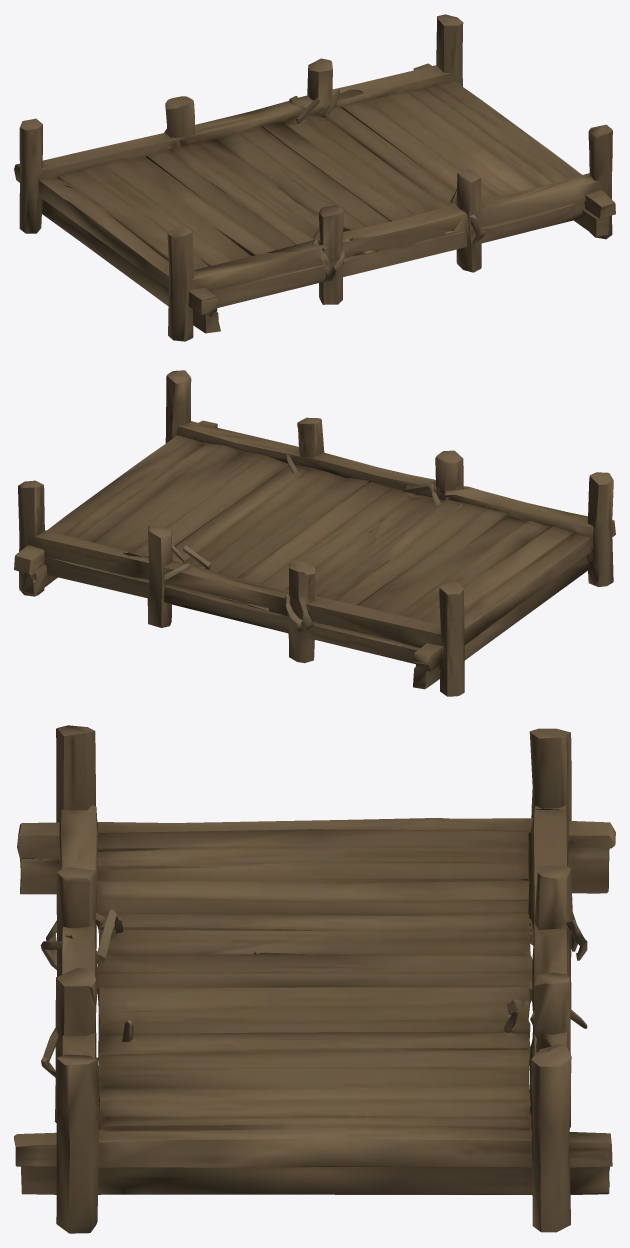
The model's file is 渡口碼頭.glb.
3 renders of one model, top to bottom at view 1: azimuth 30°, elevation 25°; view 2: azimuth 150°, elevation 25°; view 3: azimuth 270°, elevation 25°, orthographic. The views are drawn at different scales.
Parts seen in each view (by area): view 1: geometry_0; view 2: geometry_0; view 3: geometry_0.
Part boxes in pixels (x1,y1,x2,y2): geometry_0: (14, 14, 615, 341); geometry_0: (14, 370, 615, 696); geometry_0: (14, 725, 615, 1233).
Bounding box in the file's own units: 1 × 0.2395 × 0.7469.
1 material, 1 textured.
